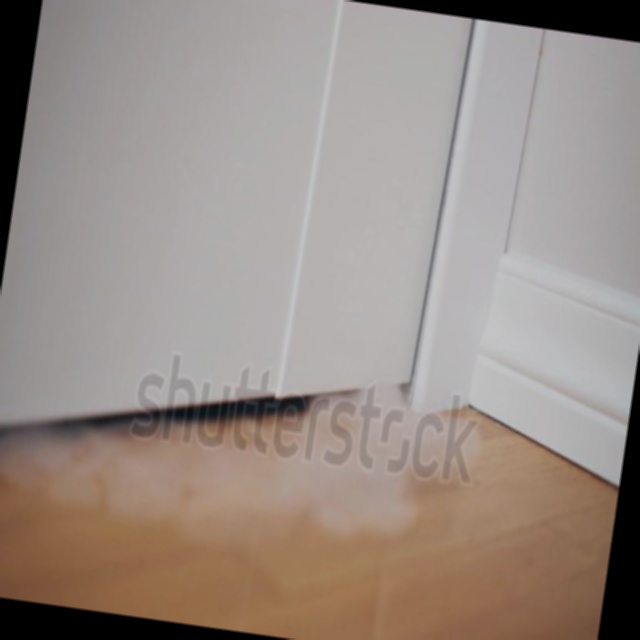smoke: (0, 342, 477, 567)
